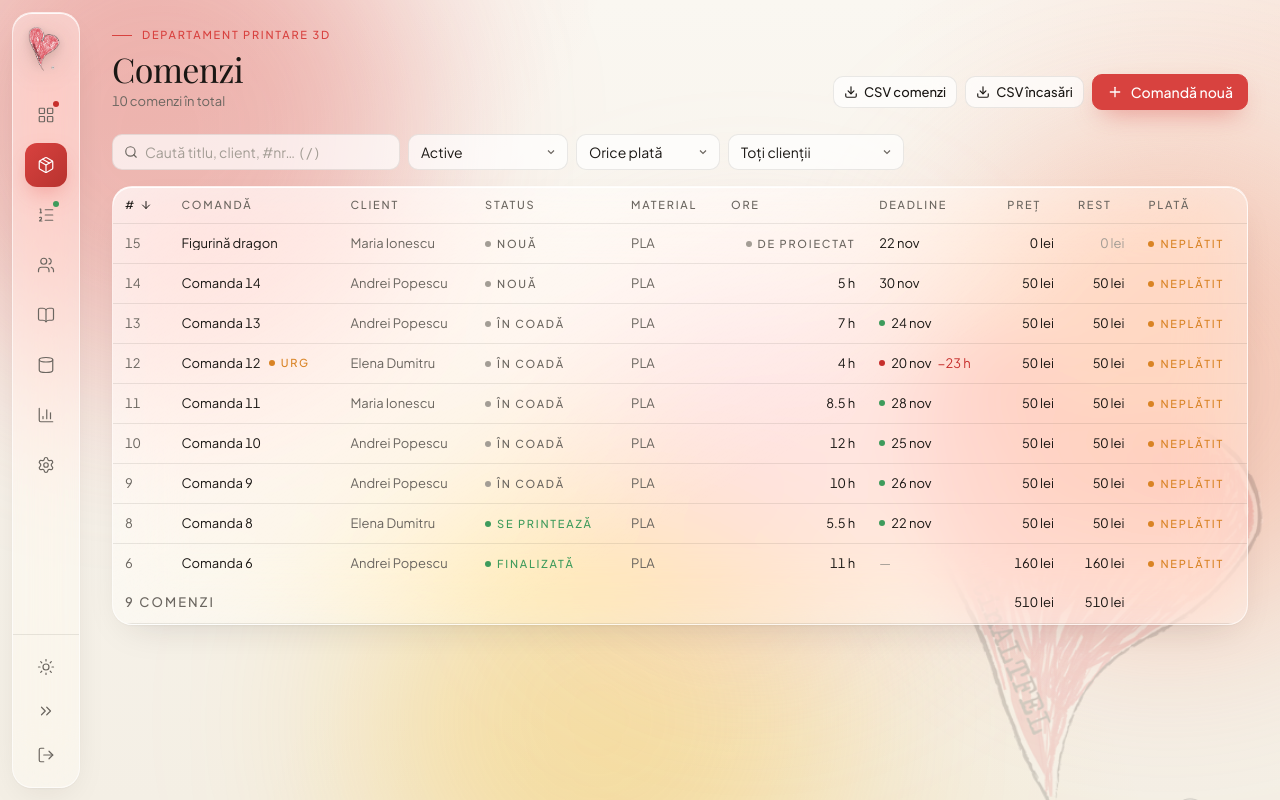
Test: pagini › Comenzi: tabel, căutare, panou de detaliu
The width and height of the screenshot is (1280, 800).
Type "Comanda 12" into the search field labelled "Caută" at [256, 152], box [112,134,400,170]
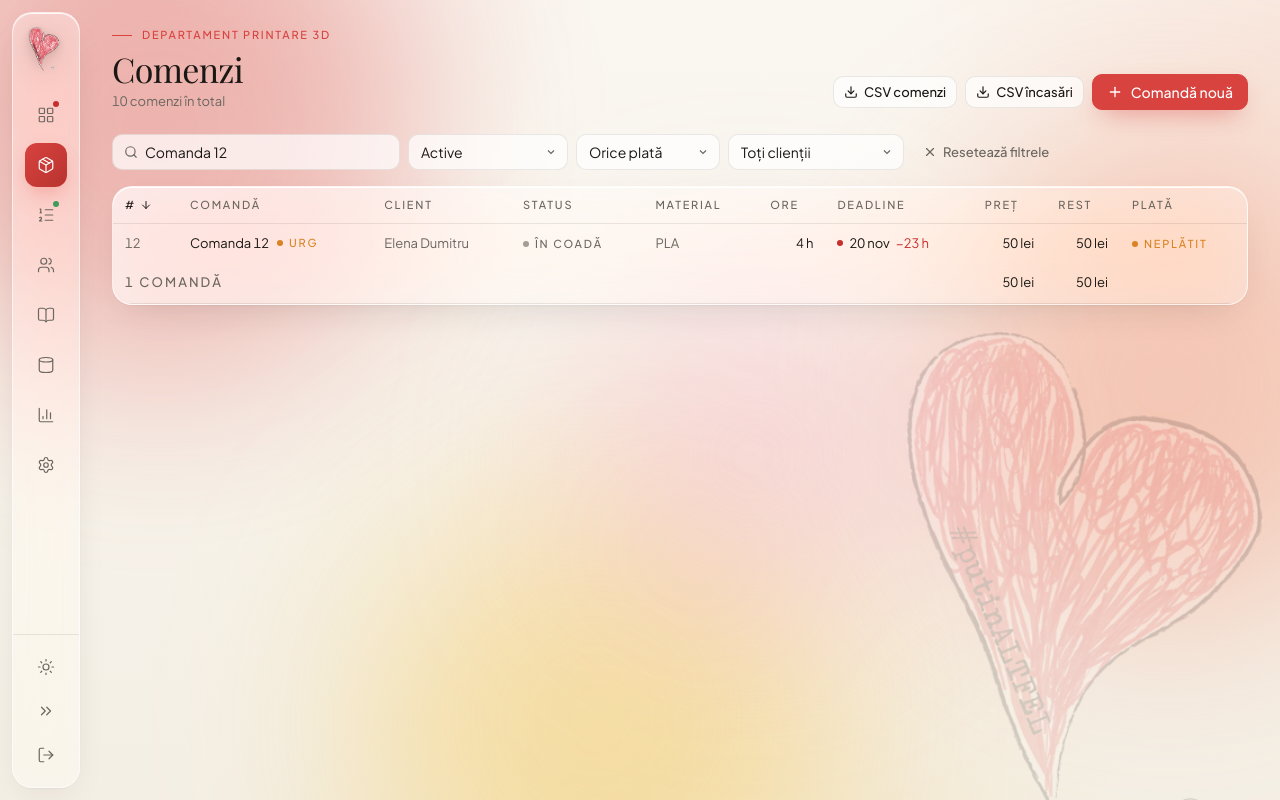
Now the text "Comanda 12" is shown once
Click the text "Comanda 12" at [230, 243], box [190,237,269,250]
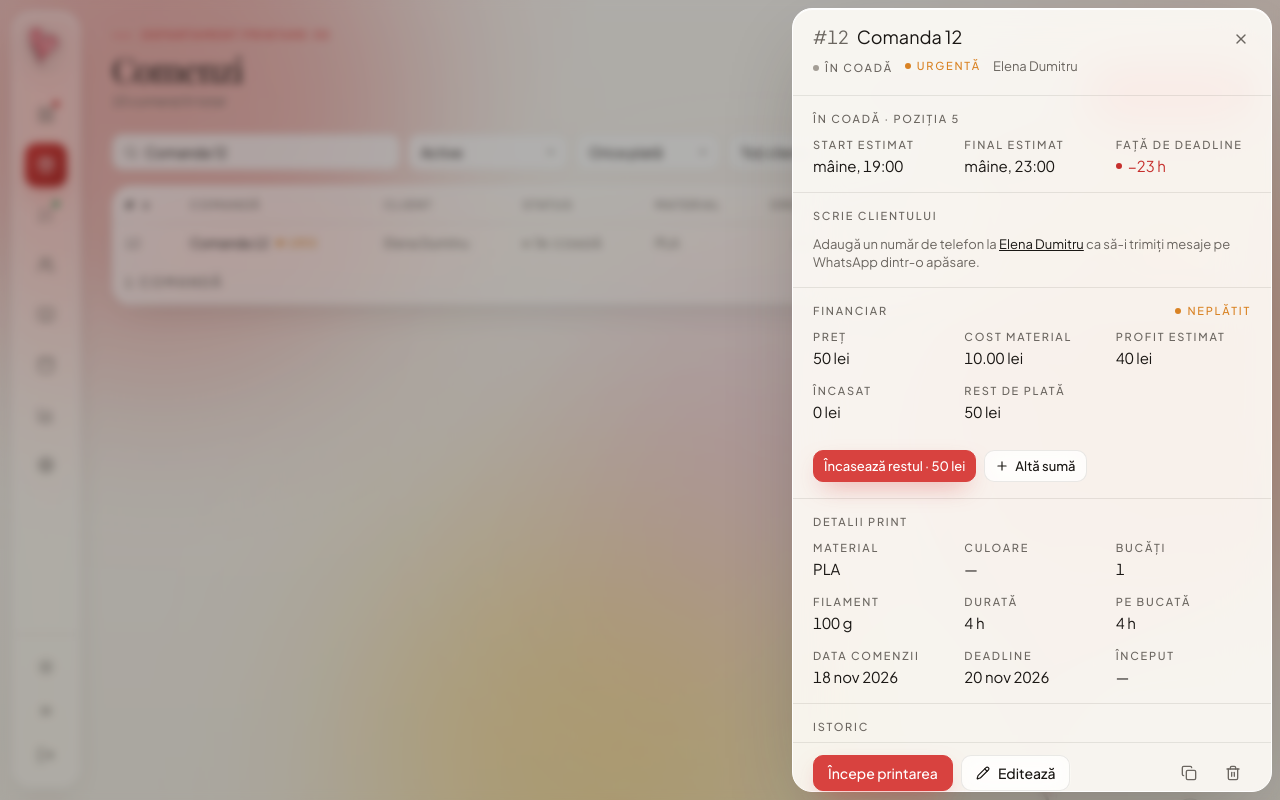
Now the heading "Financiar" is shown, box [813,304,888,318]
Now the heading "Istoric" is shown, box [813,720,869,734]
